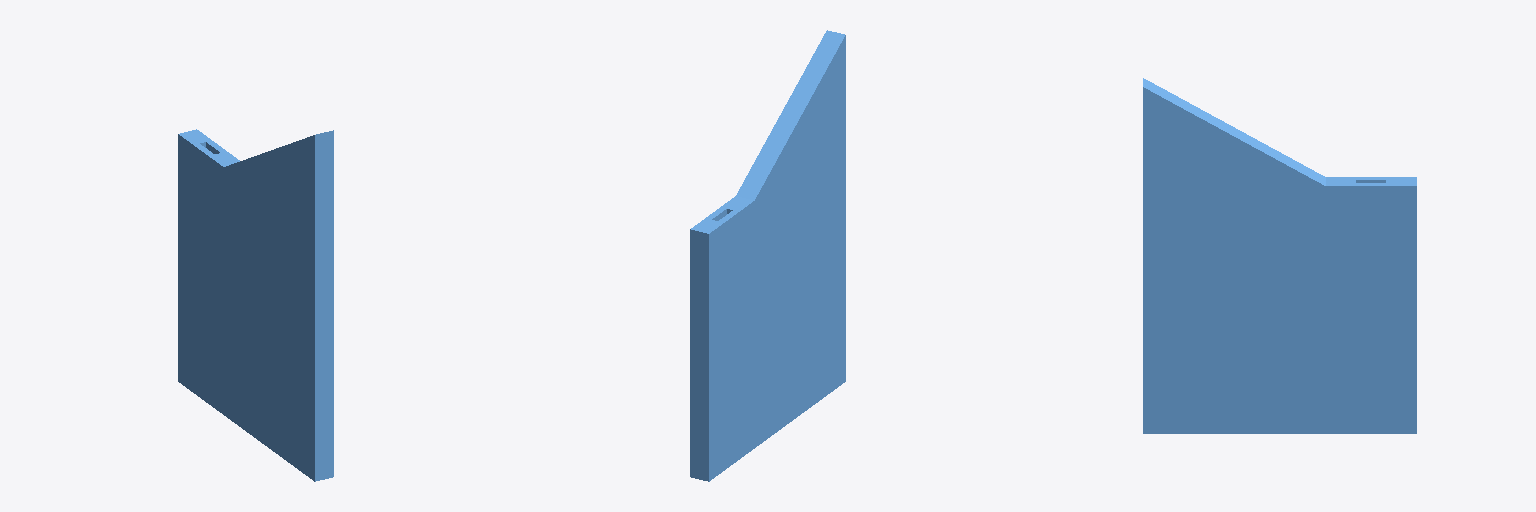
File: Door-Type-2-Side.obj
The picture shows the model from 3 angles: view 1: azimuth 30°, elevation 25°; view 2: azimuth 150°, elevation 25°; view 3: azimuth 270°, elevation 25°; orthographic projection.
Visible parts, largest first — view 1: Door-Type-2-Side; view 2: Door-Type-2-Side; view 3: Door-Type-2-Side.
Part boxes in pixels (x1,y1,x2,y2): Door-Type-2-Side: (178, 129, 333, 481); Door-Type-2-Side: (690, 30, 845, 481); Door-Type-2-Side: (1143, 78, 1416, 433).
Bounding box in the file's own units: 0.1 × 1.75 × 1.25.